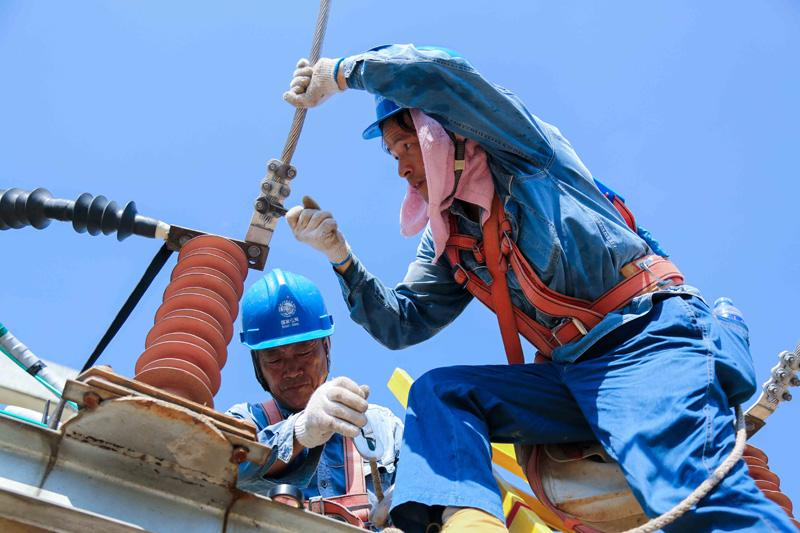helmet: (239, 270, 333, 351), (359, 80, 433, 136)
